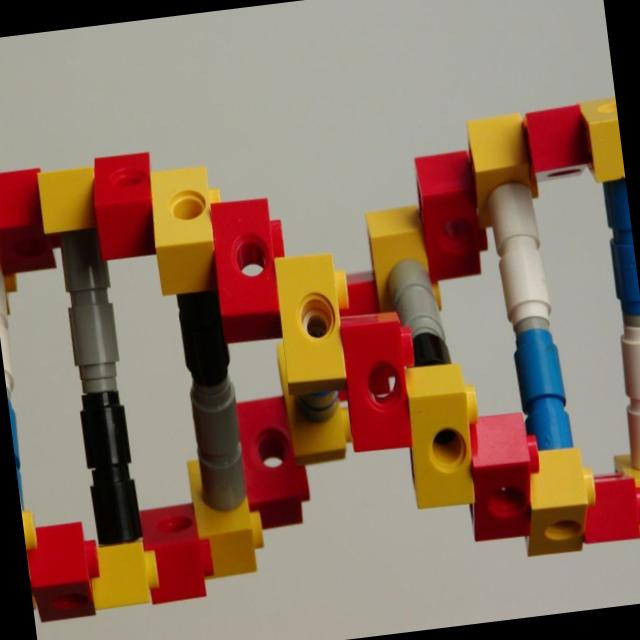Toy: (0, 93, 640, 622)
